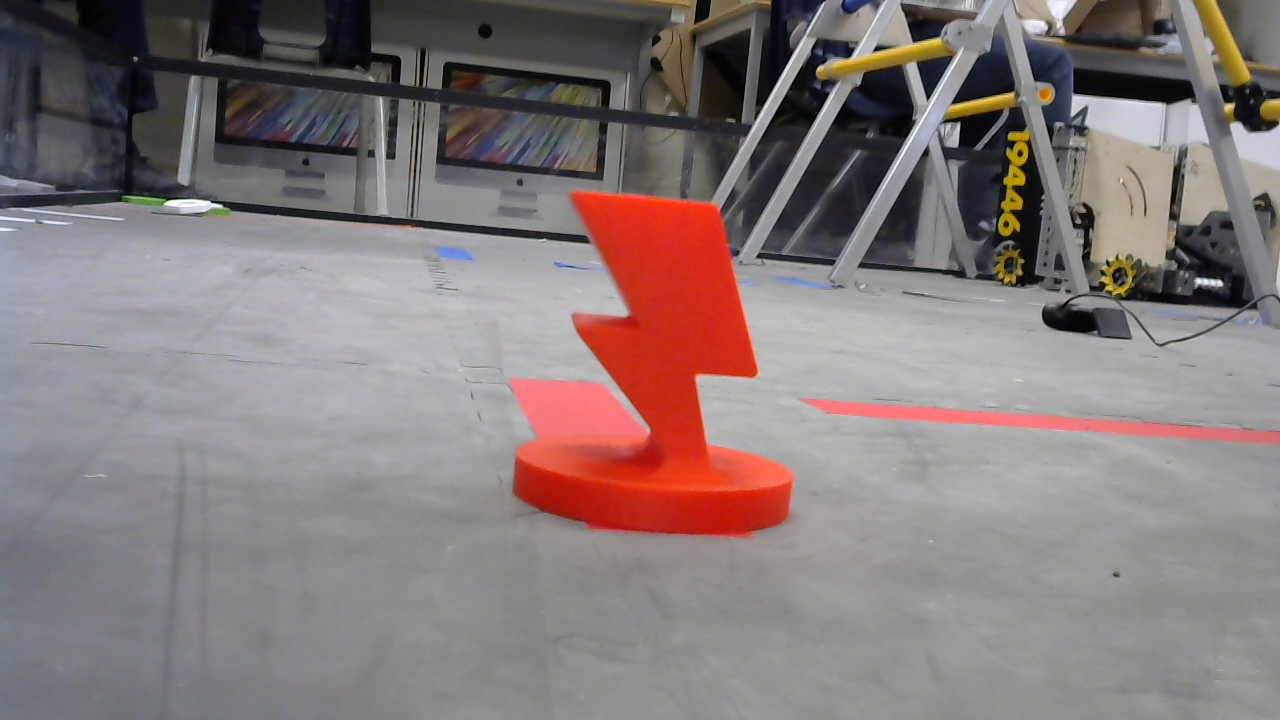redobject: (512, 194, 794, 537)
